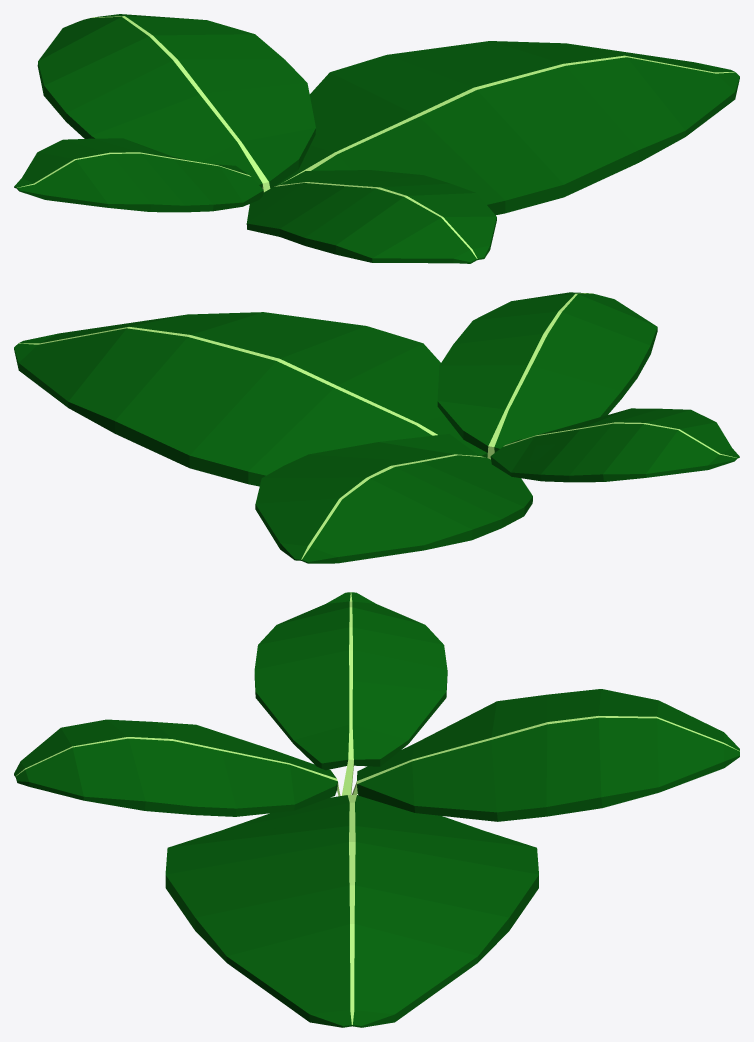
The model's file is basil02.obj.
The picture shows the model from 3 angles, top to bottom: view 1: azimuth 30°, elevation 25°; view 2: azimuth 150°, elevation 25°; view 3: azimuth 270°, elevation 25°; orthographic projection. The views are drawn at different scales.
Visible parts, largest first — view 1: Cylinder.001; view 2: Cylinder.001; view 3: Cylinder.001.
Boxes of the visible parts, box(x1,y1,x2,y2) form: Cylinder.001: box(14, 14, 739, 263); Cylinder.001: box(14, 292, 739, 563); Cylinder.001: box(14, 592, 739, 1027).
Bounding box in the file's own units: 0.1121 × 0.0147 × 0.093.
Materials: 1 (1 with a texture image).
